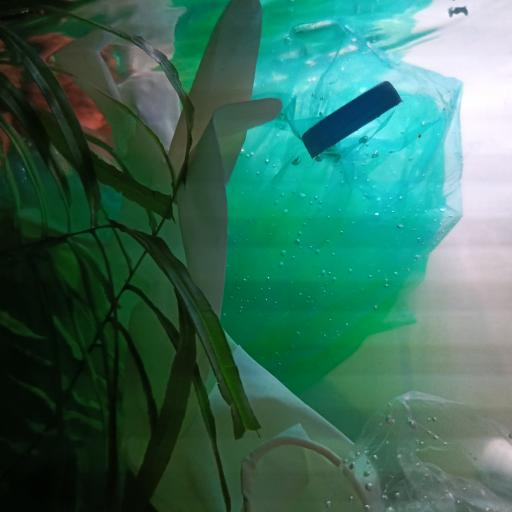bottle_cap: (304, 81, 400, 158)
glove: (60, 0, 385, 512)
plastic_bag: (225, 20, 465, 394), (321, 389, 512, 512)
plastic_bottle: (477, 434, 512, 494)
